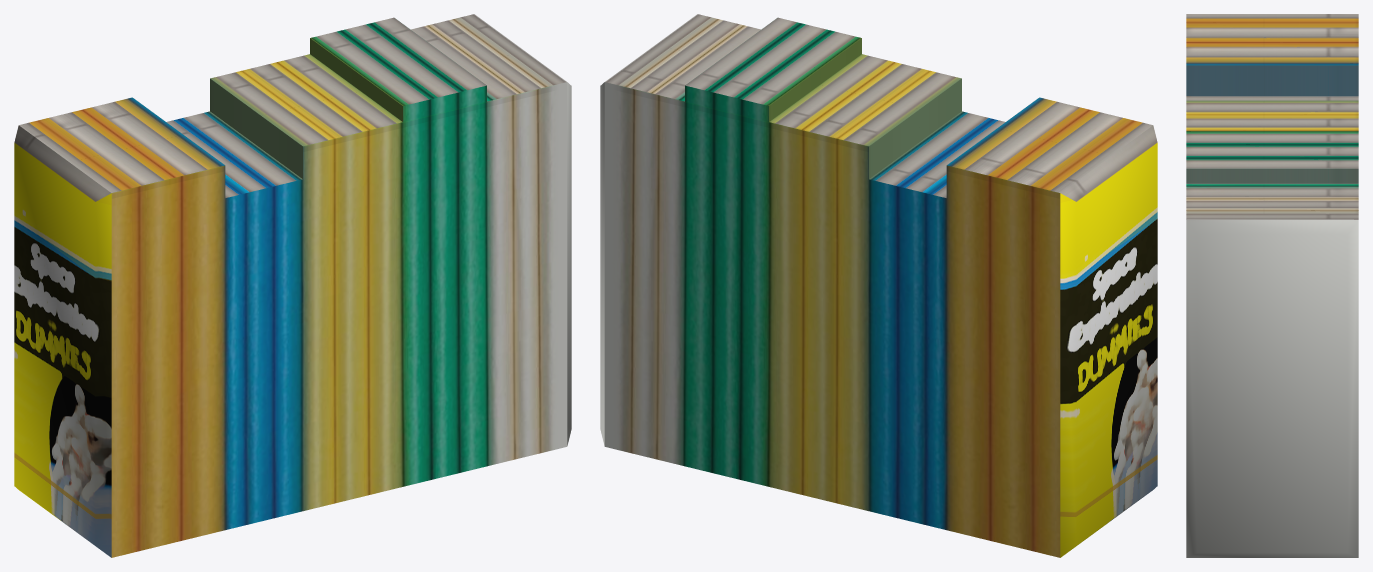
The model's file is BookStack.FBX.
3 views of the same model, side by side, from view 1: azimuth 30°, elevation 25°; view 2: azimuth 150°, elevation 25°; view 3: azimuth 270°, elevation 25° (orthographic). The views are drawn at different scales.
Visible parts, largest first — view 1: Box001; view 2: Box001; view 3: Box001.
Boxes of the visible parts, x1,y1,x2,y2 form: Box001: [14, 14, 571, 557]; Box001: [600, 14, 1157, 557]; Box001: [1186, 14, 1358, 557].
Size of the model in its own units: 31.1 by 10.51 by 23.78.
